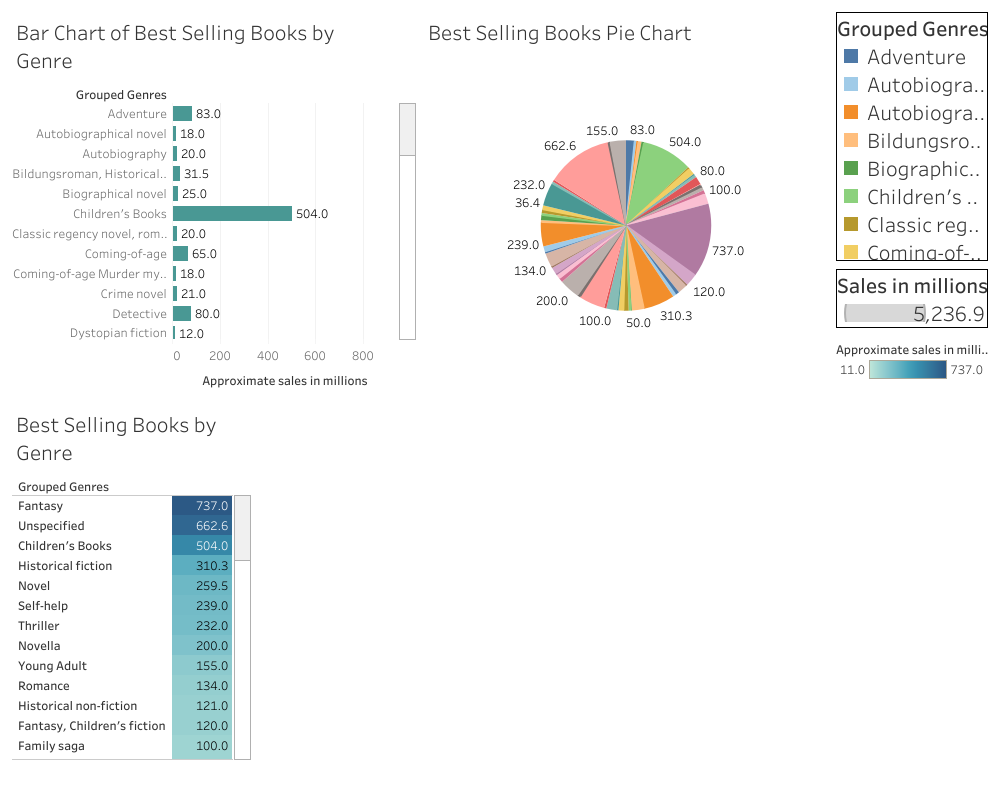

This screenshot's page, from the dashboard's own definition file:
{"tool":"tableau","page":{"name":"Best Selling Books","canvas":[1000,800],"ordinal":0},"visuals":[{"type":"worksheet","title":"Sheet 1","mark":"Bar","cols":["Approximate sales in millions"],"box":[8,8,412,392]},{"type":"worksheet","title":"Sheet 2","mark":"Pie","box":[420,8,412,392]},{"type":"legend","title":"Sheet 2","param":"[federated.074ukz50v5bnob103l4ty0tf54us].[Genre (group)]","box":[832,8,160,257]},{"type":"legend","title":"Sheet 2","param":"[federated.074ukz50v5bnob103l4ty0tf54us].[sum:Approximate sales in millions:qk]","box":[832,265,160,67]},{"type":"legend","title":"Sheet 3","param":"[federated.074ukz50v5bnob103l4ty0tf54us].[sum:Approximate sales in millions:qk]","box":[832,332,160,68]},{"type":"worksheet","title":"Sheet 3","mark":"Square","box":[8,400,984,392]}]}

Visuals, with their boxes in screenshot pixels (x1, y1, x2, y2), scaled from the page's 1000x800 canvas onto the 999x799 screenshot:
"Sheet 1" worksheet (Bar marks): locate(8, 8, 420, 400)
"Sheet 2" worksheet (Pie marks): locate(420, 8, 831, 400)
"Sheet 2" legend: locate(831, 8, 991, 265)
"Sheet 2" legend: locate(831, 265, 991, 332)
"Sheet 3" legend: locate(831, 332, 991, 400)
"Sheet 3" worksheet (Square marks): locate(8, 400, 991, 791)
